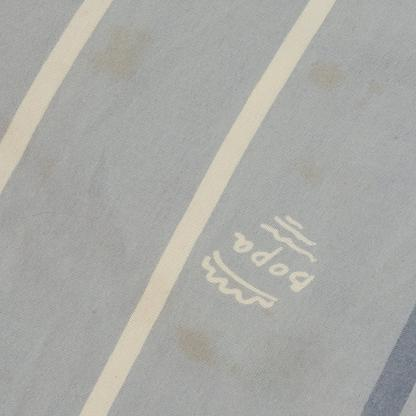spot: (81, 6, 160, 90), (164, 304, 236, 374), (302, 54, 367, 106), (294, 158, 323, 186), (365, 79, 393, 98)
